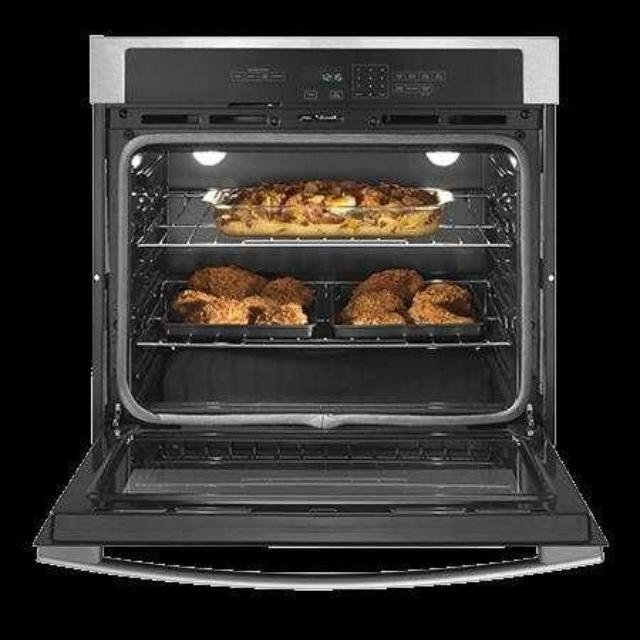Oven: (79, 26, 564, 524)
